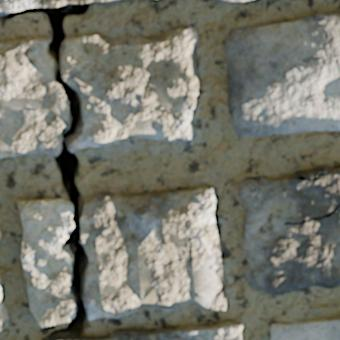brick: (225, 13, 339, 136), (238, 166, 339, 294), (43, 321, 241, 339), (0, 0, 126, 13), (271, 317, 339, 339), (0, 280, 8, 329), (215, 0, 247, 1)
broken_brick: (81, 185, 227, 320), (62, 26, 199, 151), (0, 35, 67, 158), (17, 197, 74, 327)
crack: (0, 2, 90, 337), (296, 167, 324, 181), (121, 193, 145, 201), (28, 283, 33, 311), (168, 189, 189, 195)
